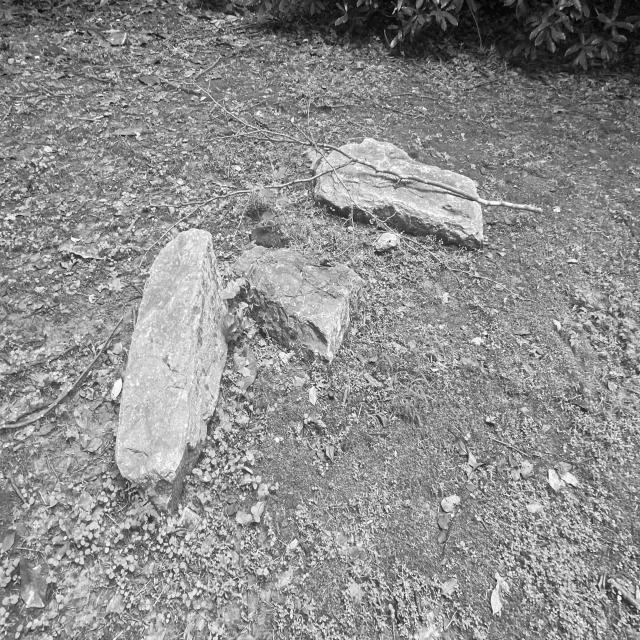Stone: (115, 228, 227, 511), (315, 139, 541, 247), (234, 246, 365, 363)
